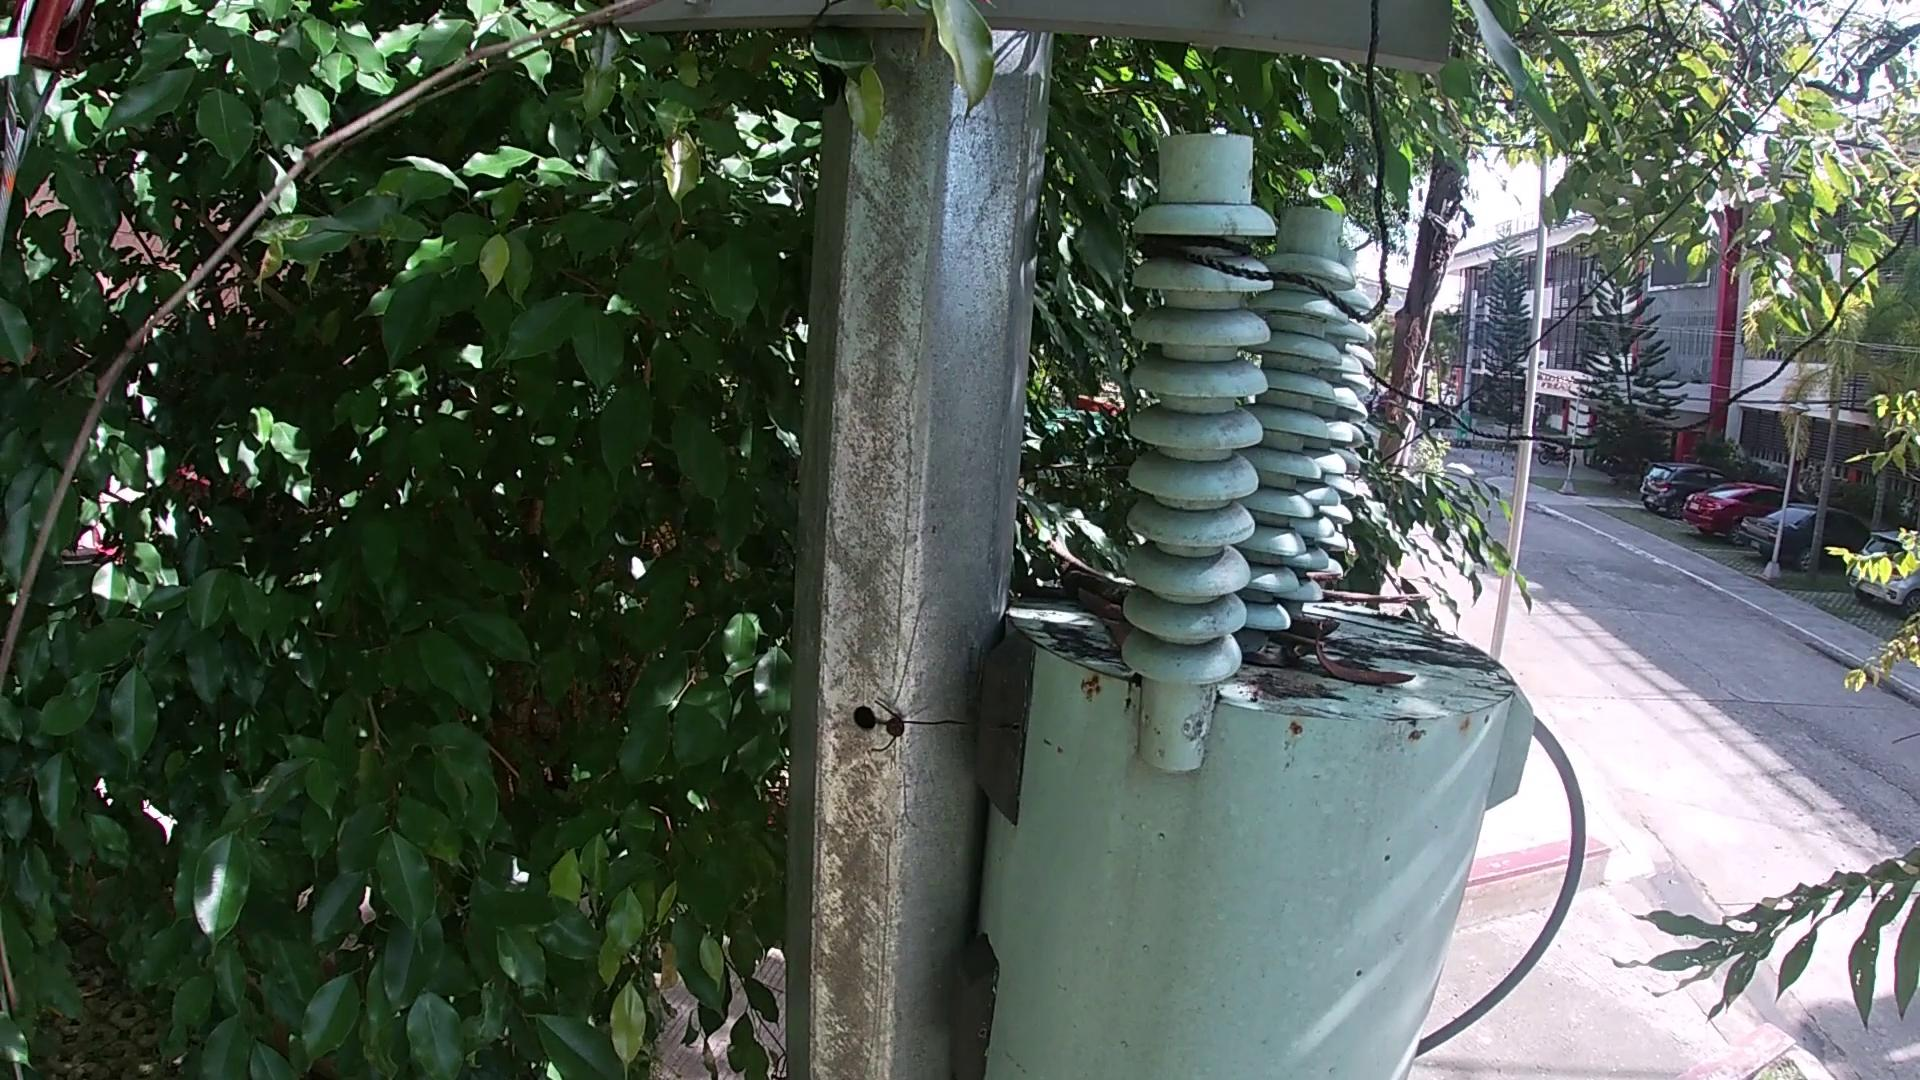leaf: (1102, 620, 1129, 654), (1246, 651, 1290, 667)
mahogany fruit: (1316, 640, 1420, 696), (1290, 617, 1365, 641)
tree branch: (1321, 587, 1443, 622), (1044, 568, 1137, 597), (1056, 551, 1130, 578)
